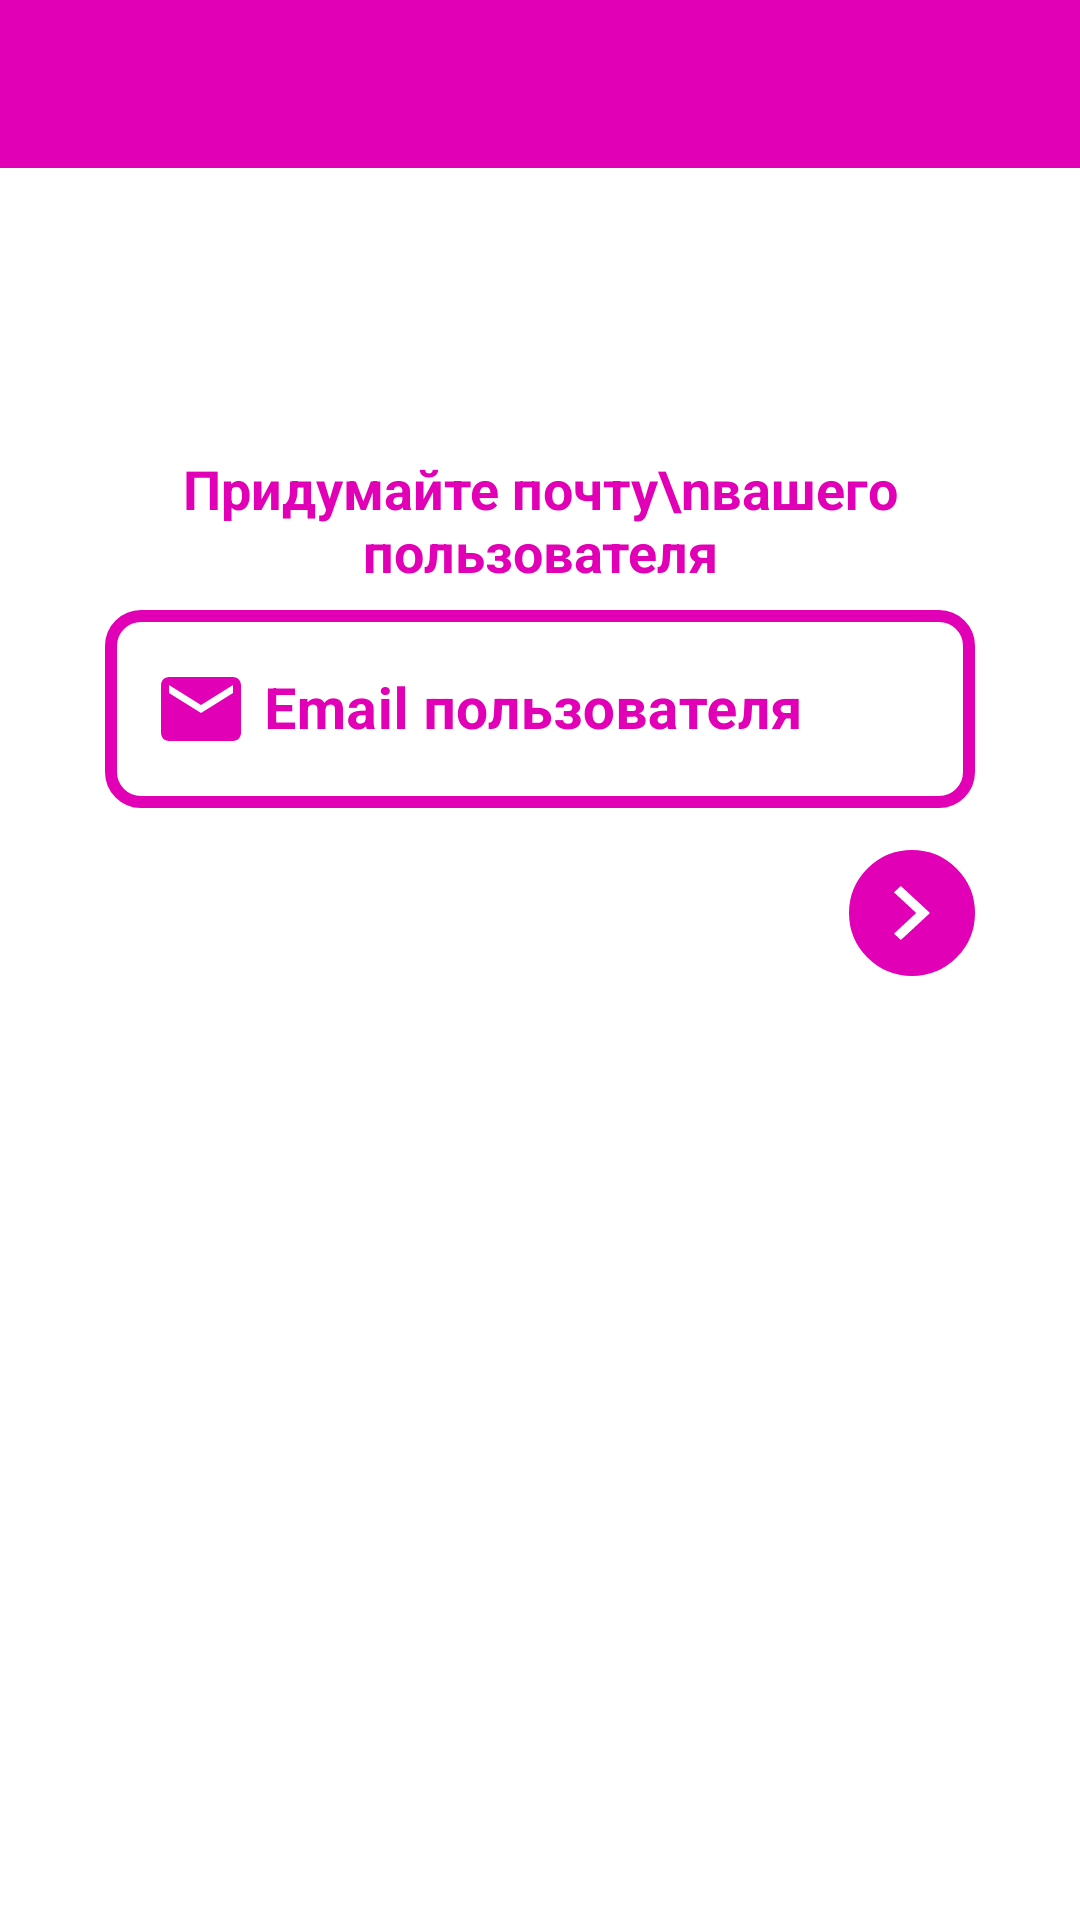

Named icons in this screenshot (1080px×1920px) and their centers, point (x, y):
next: point (912, 913)
